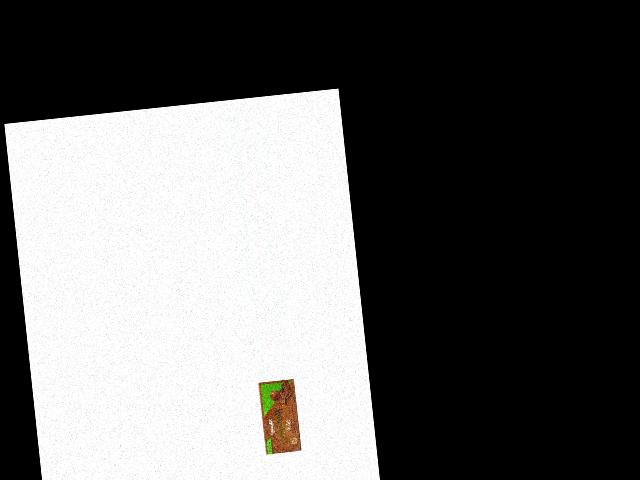chocolate: (255, 378, 303, 457)
